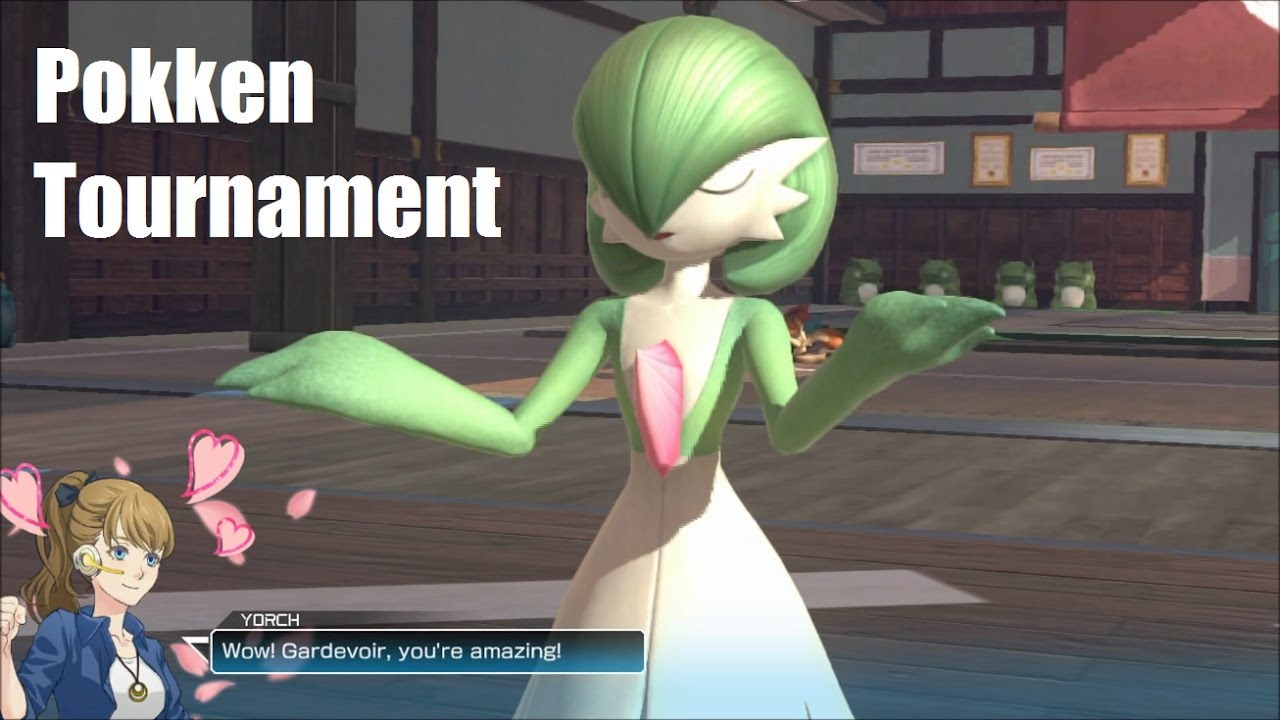gardevoir: (220, 22, 1003, 720)
